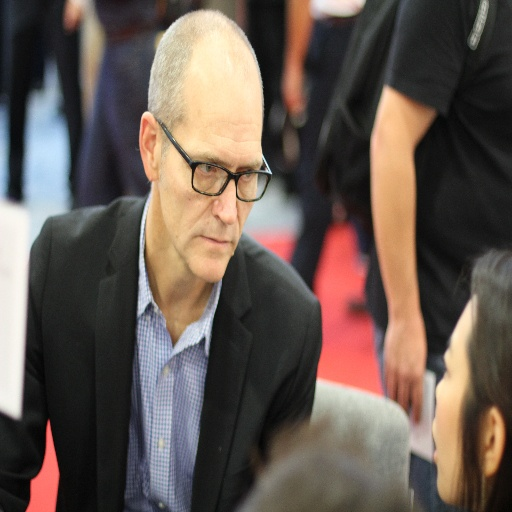hand: (379, 236, 437, 433), (282, 65, 307, 116)
